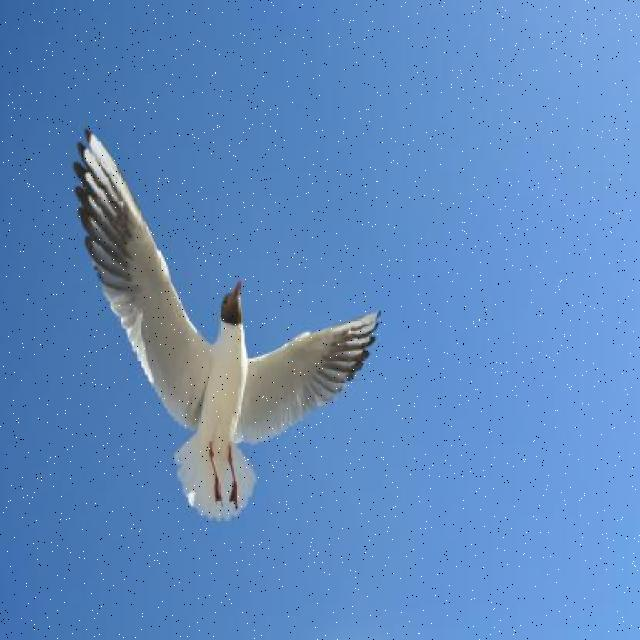bird: (75, 126, 380, 520)
